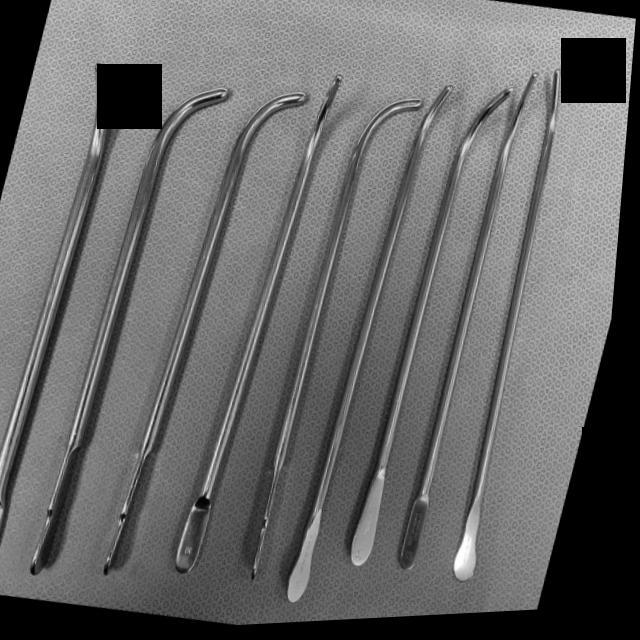Urethral Dilators: (25, 49, 241, 605), (105, 47, 321, 590), (426, 63, 614, 591), (168, 59, 354, 590), (278, 73, 459, 612), (242, 81, 424, 600), (344, 77, 516, 590), (397, 62, 544, 582), (0, 50, 127, 582)
